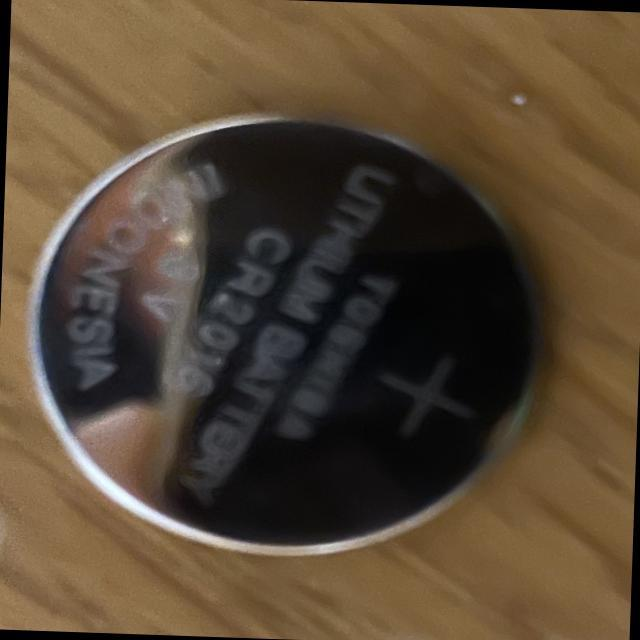COIN: (16, 102, 552, 568)
